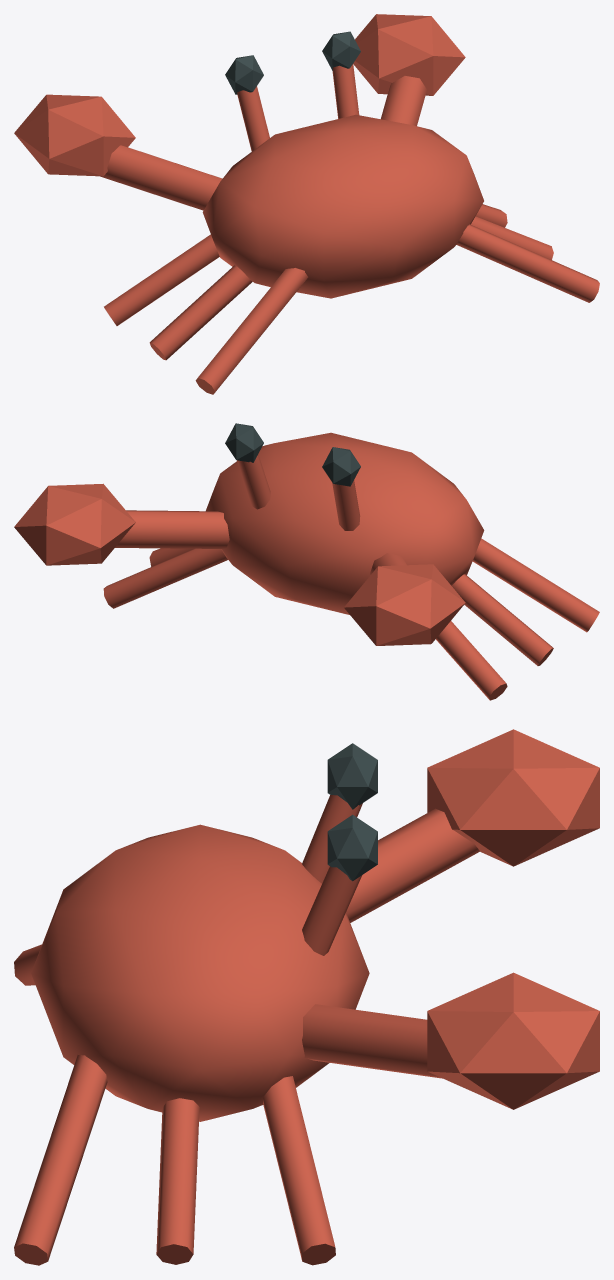
File: shore-crab.glb
3 renders of one model, top to bottom at view 1: azimuth 30°, elevation 25°; view 2: azimuth 150°, elevation 25°; view 3: azimuth 270°, elevation 25°, orthographic. The views are drawn at different scales.
Visible parts, largest first — view 1: shell, claw--1, claw-1, claw-arm--1, leg-1-2, leg--1-2, leg--1-0, leg--1-1, claw-arm-1, eye-stalk--1, eye-stalk-1, eye--1 (+2 smaller); view 2: shell, claw--1, claw-1, claw-arm-1, leg--1-2, leg-1-0, leg--1-1, leg--1-0, eye-stalk-1, eye-1, eye--1, eye-stalk--1 (+1 smaller); view 3: shell, claw-1, claw--1, leg-1-2, claw-arm-1, leg-1-0, claw-arm--1, leg-1-1, eye-stalk-1, eye-1, eye--1, eye-stalk--1.
Part boxes in pixels (x1,y1,x2,y2): shell: (202, 114, 483, 298); claw--1: (14, 94, 135, 176); claw-1: (353, 14, 465, 95); claw-arm--1: (100, 145, 222, 210); leg-1-2: (456, 224, 599, 302); leg--1-2: (195, 268, 308, 394); leg--1-0: (104, 234, 219, 325); leg--1-1: (149, 265, 252, 360); claw-arm-1: (381, 76, 426, 125); eye-stalk--1: (237, 86, 269, 151); eye-stalk-1: (332, 64, 359, 118); eye--1: (225, 55, 263, 94); shell: (206, 432, 484, 614); claw--1: (344, 564, 465, 645); claw-1: (14, 483, 135, 565); claw-arm-1: (115, 510, 229, 548); leg--1-2: (472, 538, 599, 632); leg-1-0: (103, 548, 227, 608); leg--1-1: (452, 574, 553, 665); leg--1-0: (436, 621, 507, 700); eye-stalk-1: (237, 454, 270, 509); eye-1: (225, 423, 263, 462); eye--1: (322, 447, 360, 486); eye-stalk--1: (332, 480, 360, 530); shell: (31, 824, 369, 1121); claw-1: (427, 972, 599, 1109); claw--1: (427, 729, 599, 866); leg-1-2: (14, 1055, 107, 1265); claw-arm-1: (302, 1004, 442, 1078); leg-1-0: (263, 1076, 335, 1265); claw-arm--1: (346, 808, 479, 922); leg-1-1: (156, 1098, 199, 1264); eye-stalk-1: (302, 866, 362, 955); eye-1: (327, 814, 377, 881); eye--1: (327, 743, 377, 809); eye-stalk--1: (302, 795, 362, 883).
Bounding box in the file's own units: 0.8586 × 0.4437 × 0.6922.
